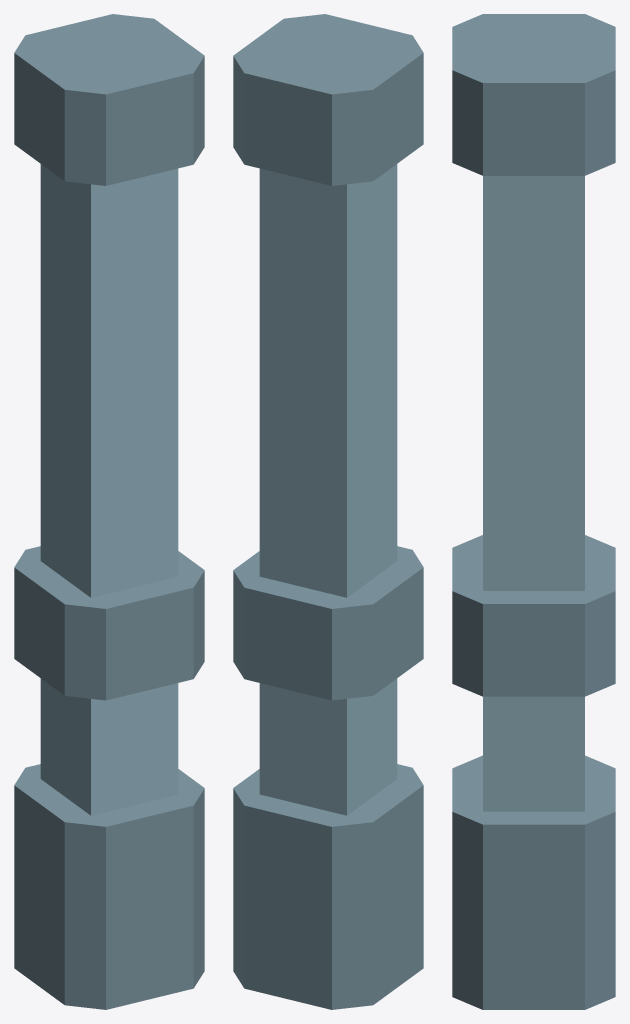
Rendered from pillarStone.obj.
3 renders of one model, left to right at view 1: azimuth 30°, elevation 25°; view 2: azimuth 150°, elevation 25°; view 3: azimuth 270°, elevation 25°, orthographic.
Parts seen in each view (by area): view 1: pillarStone; view 2: pillarStone; view 3: pillarStone.
Boxes of the visible parts, bbox=[...] form: pillarStone: bbox=[14, 14, 204, 1009]; pillarStone: bbox=[233, 14, 423, 1009]; pillarStone: bbox=[452, 14, 615, 1009].
Bounding box in the file's own units: 0.16 × 1 × 0.16.
